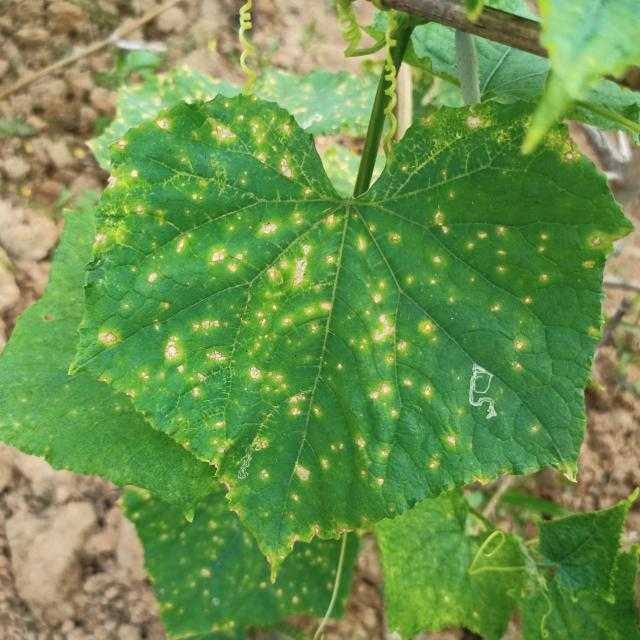disease_cucumber: (106, 109, 568, 526)
